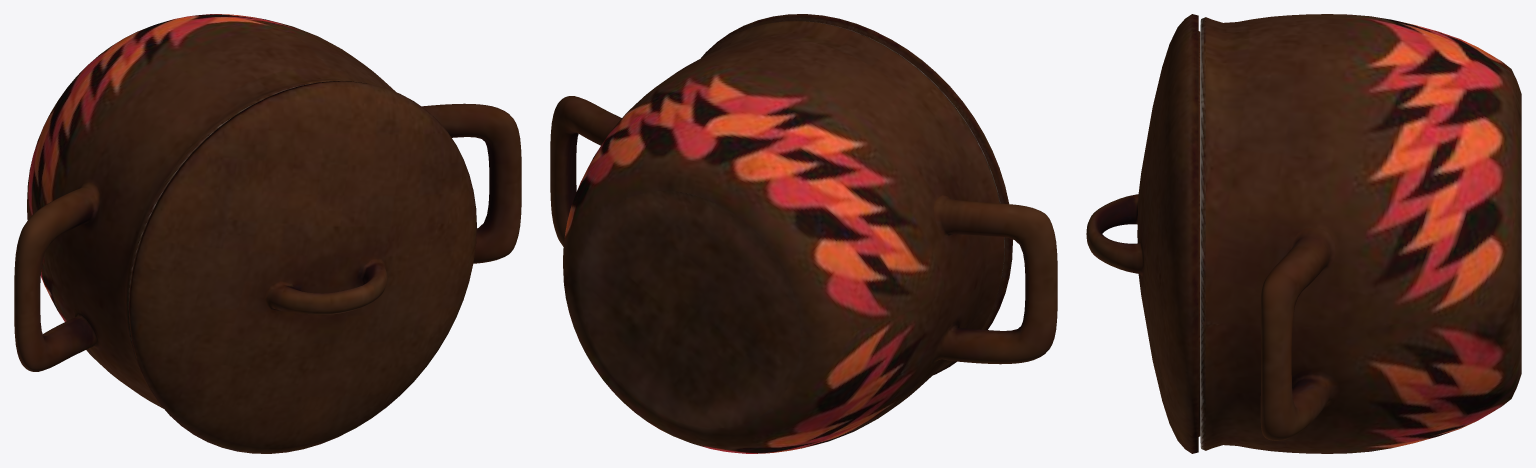
Rendered from pot.glb.
3 renders of one model, left to right at view 1: azimuth 30°, elevation 25°; view 2: azimuth 150°, elevation 25°; view 3: azimuth 270°, elevation 25°, orthographic. The views are drawn at different scales.
Parts seen in each view (by area): view 1: pot_enamel_01_lid, pot_enamel_01_base; view 2: pot_enamel_01_base, pot_enamel_01_lid; view 3: pot_enamel_01_base, pot_enamel_01_lid.
Part boxes in pixels (x1,y1,x2,y2): pot_enamel_01_lid: (128,81,476,453); pot_enamel_01_base: (14,14,521,408); pot_enamel_01_base: (550,21,1057,453); pot_enamel_01_lid: (701,14,1012,375); pot_enamel_01_base: (1200,14,1521,453); pot_enamel_01_lid: (1086,14,1200,453).
Size of the model in its own units: 0.2629 by 0.1805 by 0.1783.
Materials: 1 (1 with a texture image).
